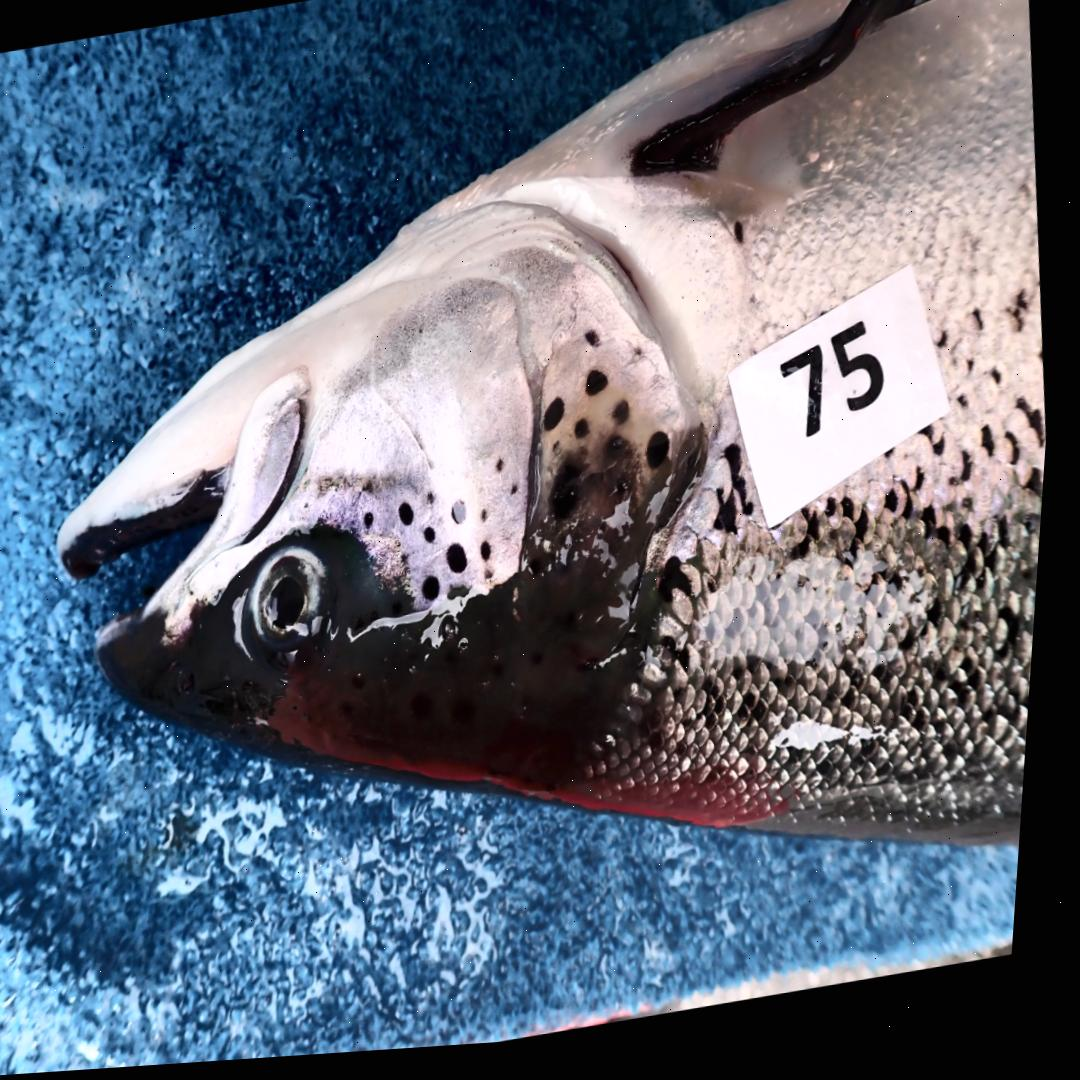spot: (555, 463, 612, 525), (653, 441, 677, 477), (549, 406, 571, 439), (610, 444, 637, 470), (454, 550, 476, 581), (592, 378, 614, 406), (431, 582, 449, 609), (618, 409, 636, 433), (405, 508, 421, 531), (459, 509, 474, 532), (581, 427, 596, 448), (456, 593, 480, 606), (591, 339, 605, 357), (431, 533, 443, 550), (489, 548, 499, 568), (369, 485, 381, 499), (371, 518, 381, 534), (434, 499, 443, 512), (493, 577, 504, 586), (640, 357, 649, 367), (503, 467, 510, 479), (560, 449, 567, 460), (518, 492, 524, 503), (489, 517, 494, 529)
